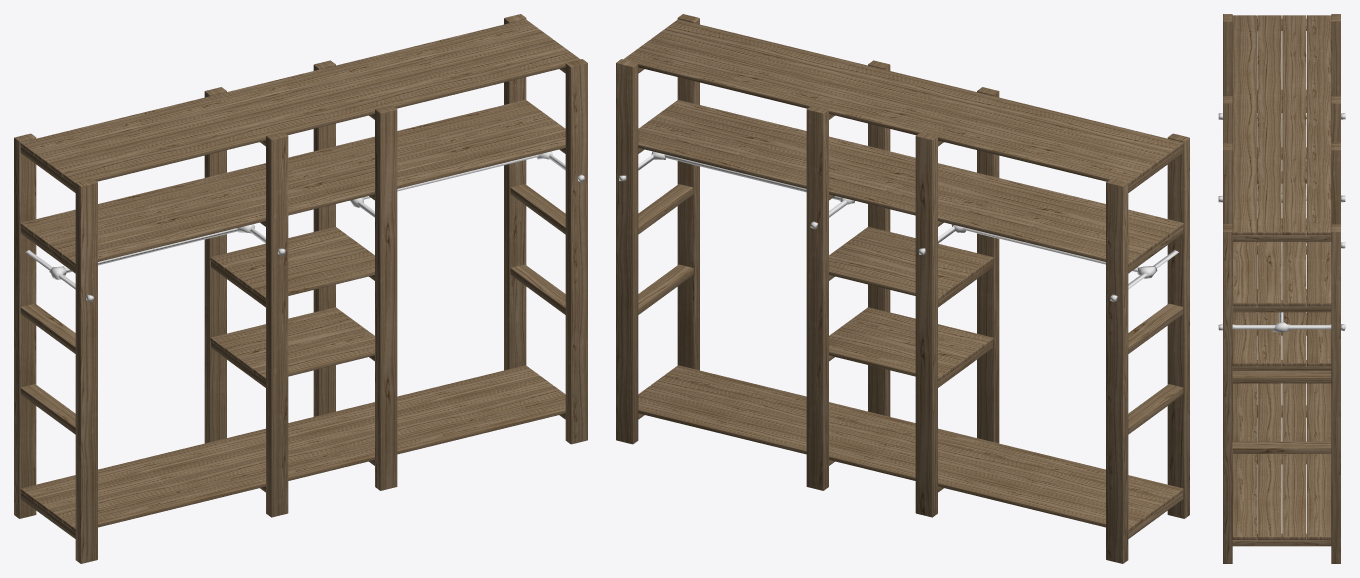
Rendered from uploads_files_7062898_Wooden_Wardrobe_6538c39b-eb32-488e-989e-f72fcb91f33c.fbx.
3 views of the same model, side by side, from view 1: azimuth 30°, elevation 25°; view 2: azimuth 150°, elevation 25°; view 3: azimuth 270°, elevation 25° (orthographic). The views are drawn at different scales.
Visible parts, largest first — view 1: wood, hanger; view 2: wood, hanger; view 3: wood, hanger.
Part boxes in pixels (box(x1,y1,x2,y2)): wood: box(14, 14, 587, 563); hanger: box(25, 151, 584, 301); wood: box(616, 14, 1189, 563); hanger: box(619, 151, 1178, 301); wood: box(1223, 14, 1340, 563); hanger: box(1218, 113, 1345, 332).
Bounding box in the file's own units: 281 × 200 × 69.36.
